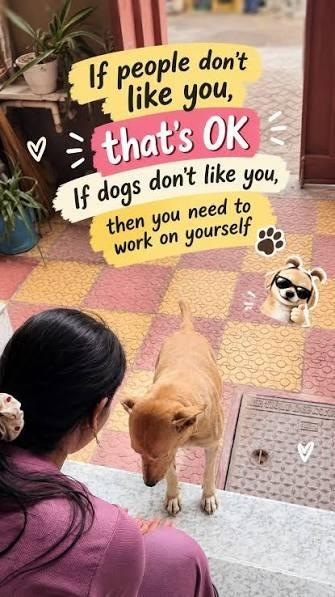adult_dog: (118, 294, 228, 518)
non-dog: (257, 252, 329, 327)
